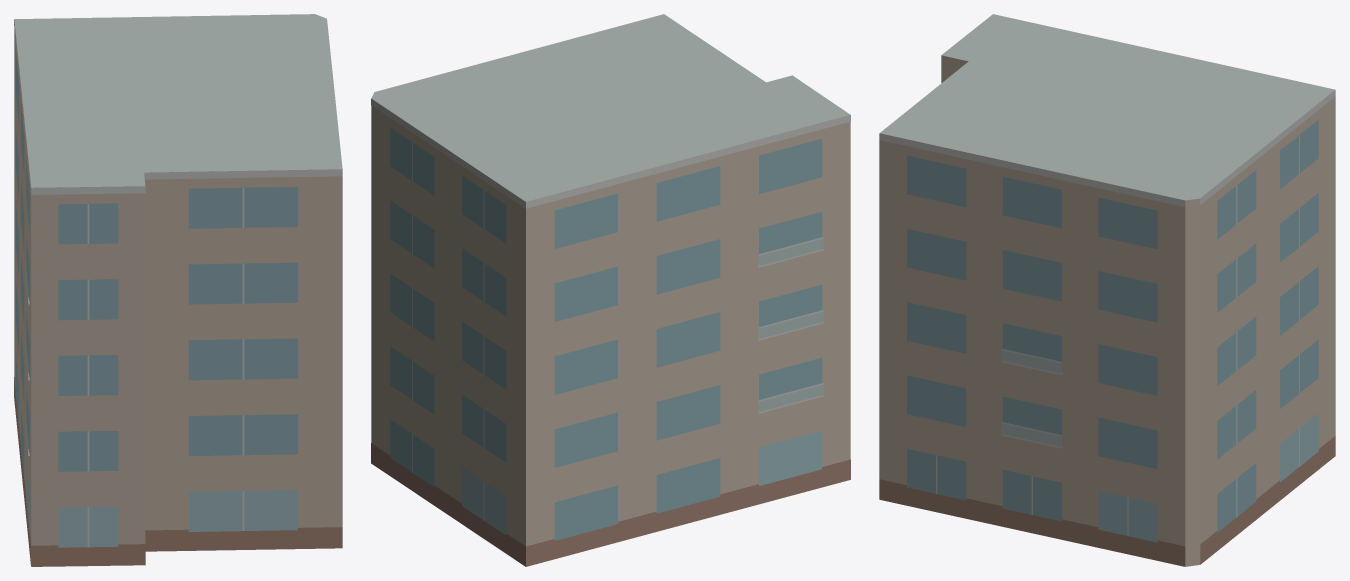
File: survey-upis-32631830.glb
3 renders of one model, left to right at view 1: azimuth 30°, elevation 25°; view 2: azimuth 150°, elevation 25°; view 3: azimuth 270°, elevation 25°, orthographic. The views are drawn at different scales.
Visible parts, largest first — view 1: survey-upis-32631830.tmp; view 2: survey-upis-32631830.tmp; view 3: survey-upis-32631830.tmp.
Boxes of the visible parts, bbox=[...] form: survey-upis-32631830.tmp: bbox=[14, 14, 342, 566]; survey-upis-32631830.tmp: bbox=[371, 14, 850, 566]; survey-upis-32631830.tmp: bbox=[879, 14, 1335, 566].
Bounding box in the file's own units: 14.31 × 13.1 × 14.79.
